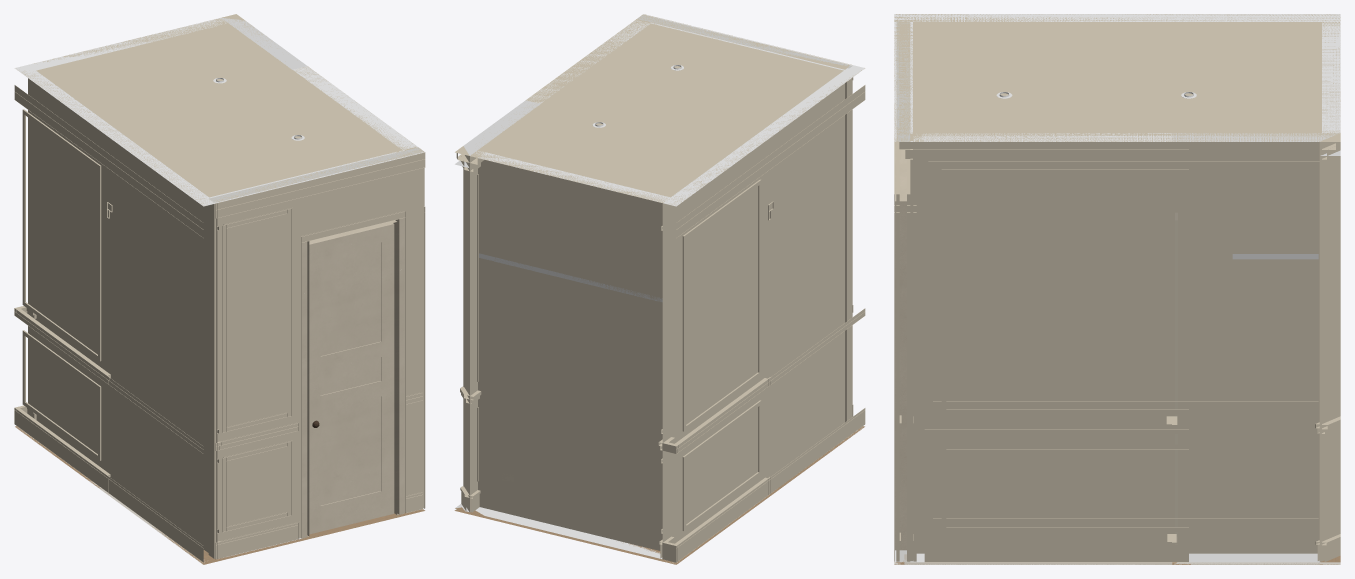
Rendered from loli-closet-758352e6825b.glb.
The picture shows the model from 3 angles, left to right: view 1: azimuth 30°, elevation 25°; view 2: azimuth 150°, elevation 25°; view 3: azimuth 270°, elevation 25°; orthographic projection. The views are drawn at different scales.
Parts seen in each view (by area): view 1: loli-closet-6a1144f4e43410bb, loli-closet-0e637d2be41161fb, loli-closet-2575515a05775d9e, loli-closet-5b37b110dc0e2cdc, loli-closet-d6b1bc8c737b28e2, loli-closet-e1ae12ec9cba52a2, loli-closet-609bc1027670cc96, loli-closet-2c29ddcb8551cb02, loli-closet-e54d813e60c9e7c4, loli-closet-8c325fd3303e2546, loli-closet-cff4566edbc5d5ad, loli-closet-9d632b693d1b5808 (+16 smaller); view 2: loli-closet-e1ae12ec9cba52a2, loli-closet-6a1144f4e43410bb, loli-closet-2575515a05775d9e, loli-closet-0e637d2be41161fb, loli-closet-1c7325212038a6e7, loli-closet-2c29ddcb8551cb02, loli-closet-e54d813e60c9e7c4, loli-closet-cff4566edbc5d5ad, loli-closet-cc15fd6f291c811e, loli-closet-f6f53edb039cffb5, loli-closet-3b0077416469e01b, loli-closet-507cee9bdbce9ceb (+6 smaller); view 3: loli-closet-03bdd0165789d12b, loli-closet-1c7325212038a6e7, loli-closet-2575515a05775d9e, loli-closet-1bcbe5547b2cfbdc, loli-closet-92c333610bf7beb4, loli-closet-a8b6749dbb482e83, loli-closet-aaf71131b60d1226, loli-closet-b6646e2e222b858d, loli-closet-0b1205313859304a, loli-closet-b000e8b10159de15, loli-closet-6a1144f4e43410bb, loli-closet-d6b1bc8c737b28e2 (+12 smaller).
Part boxes in pixels (<box>): loli-closet-6a1144f4e43410bb: <box>15,65,215,562</box>; loli-closet-0e637d2be41161fb: <box>208,146,424,559</box>; loli-closet-2575515a05775d9e: <box>16,14,424,205</box>; loli-closet-5b37b110dc0e2cdc: <box>309,223,394,534</box>; loli-closet-d6b1bc8c737b28e2: <box>302,218,404,538</box>; loli-closet-e1ae12ec9cba52a2: <box>28,18,226,408</box>; loli-closet-609bc1027670cc96: <box>215,152,425,218</box>; loli-closet-2c29ddcb8551cb02: <box>14,408,203,562</box>; loli-closet-e54d813e60c9e7c4: <box>14,85,203,237</box>; loli-closet-8c325fd3303e2546: <box>222,209,291,432</box>; loli-closet-cff4566edbc5d5ad: <box>22,109,101,361</box>; loli-closet-9d632b693d1b5808: <box>307,219,398,536</box>; loli-closet-e1ae12ec9cba52a2: <box>470,151,670,558</box>; loli-closet-6a1144f4e43410bb: <box>662,65,864,543</box>; loli-closet-2575515a05775d9e: <box>455,14,864,205</box>; loli-closet-0e637d2be41161fb: <box>637,14,852,422</box>; loli-closet-1c7325212038a6e7: <box>463,100,540,511</box>; loli-closet-2c29ddcb8551cb02: <box>676,408,865,562</box>; loli-closet-e54d813e60c9e7c4: <box>676,85,865,237</box>; loli-closet-cff4566edbc5d5ad: <box>682,179,761,431</box>; loli-closet-cc15fd6f291c811e: <box>470,24,655,171</box>; loli-closet-f6f53edb039cffb5: <box>682,400,761,530</box>; loli-closet-3b0077416469e01b: <box>454,426,864,564</box>; loli-closet-507cee9bdbce9ceb: <box>673,378,768,452</box>; loli-closet-03bdd0165789d12b: <box>913,133,1172,562</box>; loli-closet-1c7325212038a6e7: <box>1172,133,1340,562</box>; loli-closet-2575515a05775d9e: <box>894,14,1340,141</box>; loli-closet-1bcbe5547b2cfbdc: <box>924,542,1188,562</box>; loli-closet-92c333610bf7beb4: <box>928,161,1319,405</box>; loli-closet-a8b6749dbb482e83: <box>916,534,1319,553</box>; loli-closet-aaf71131b60d1226: <box>913,141,1188,159</box>; loli-closet-b6646e2e222b858d: <box>928,436,1319,523</box>; loli-closet-0b1205313859304a: <box>941,169,1188,414</box>; loli-closet-b000e8b10159de15: <box>916,416,1319,425</box>; loli-closet-6a1144f4e43410bb: <box>894,14,1340,21</box>; loli-closet-d6b1bc8c737b28e2: <box>895,142,906,550</box>.
Size of the model in its own units: 1.95 by 3.03 by 2.88.
Materials: 17 (3 with a texture image).
